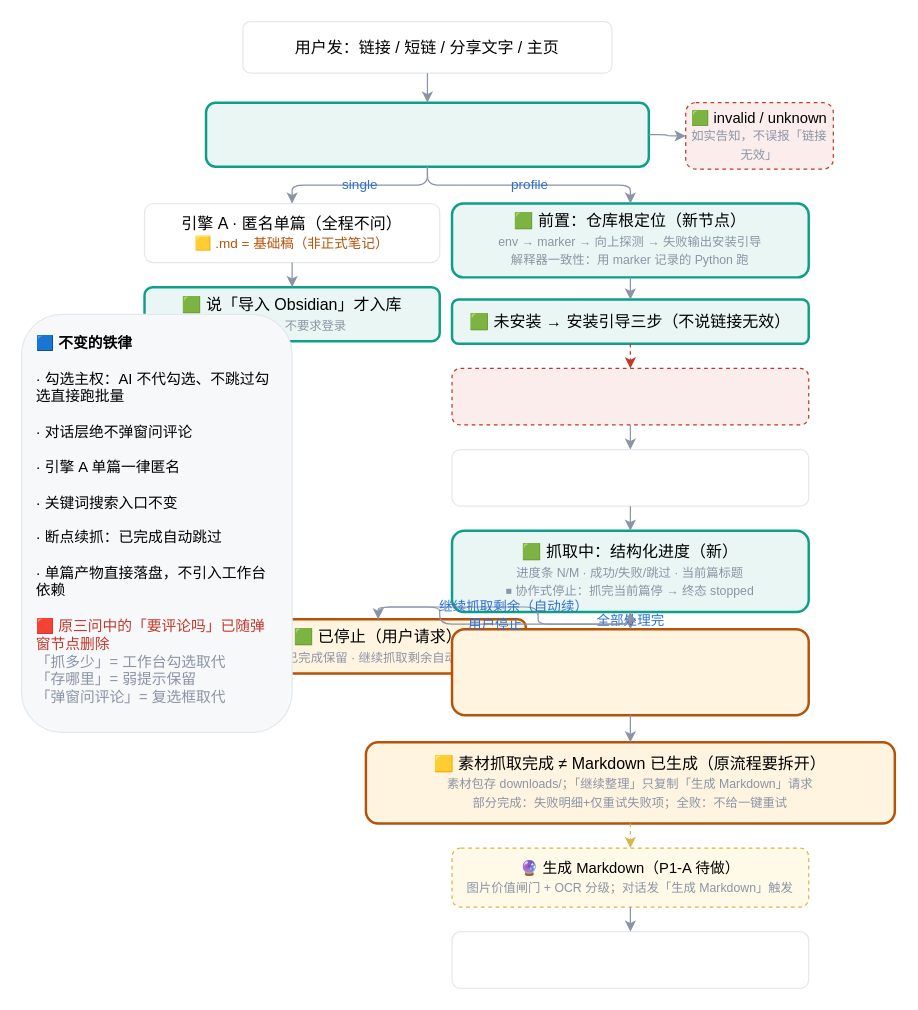
Some shapes in this 918 by 1010 pixel diagram are drawn without their labels. The shapes that lost their labels are listed below. From the top down, each one's box as (x1, y1, x2, y2) in pixels, then its label:
(204, 101, 649, 167): 🟩 classify 硬判定 （不再靠 AI 猜） single / profile / invalid / unknown（新增诚实态）
(451, 367, 809, 425): 🟥 已删除：AI 弹窗问「要保留博主评论吗」 改由工作台底栏复选框承接（默认不勾）
(451, 448, 809, 506): 引擎 B 工作台 · 用户勾选（主权不变） 评论开关在底栏 · 点卡片=勾选 · 即时落盘
(450, 627, 809, 716): 🟨 任务完成 → 持久结果卡（变更） 四态：素材完成 / 已停止 / 部分完成 / 全部失败 页面级隔离：新窗口不串卡 · 知道了可关
(451, 930, 809, 988): 说「导入 Obsidian」→ 入库（不重抓） 库根 attachments/ · 索引 · 评论置末 · emoji 清理
